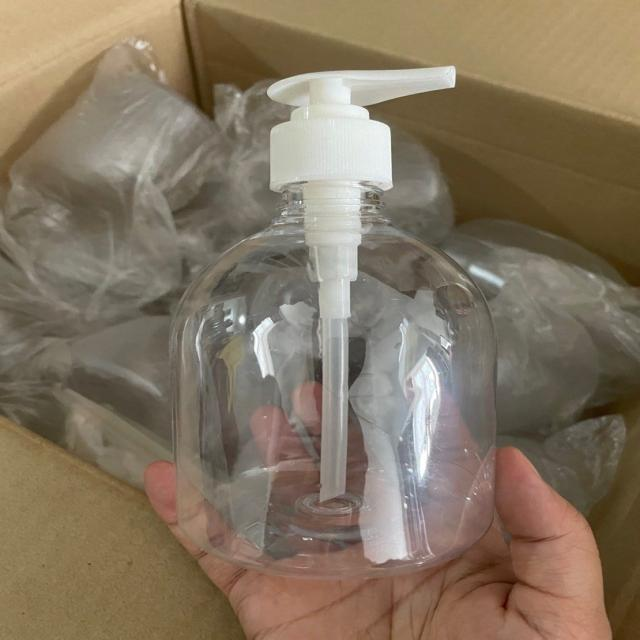plastic: (174, 63, 493, 573)
